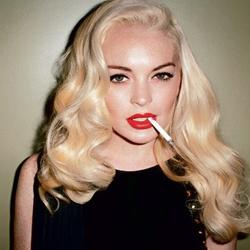smoking: (124, 111, 177, 148)
